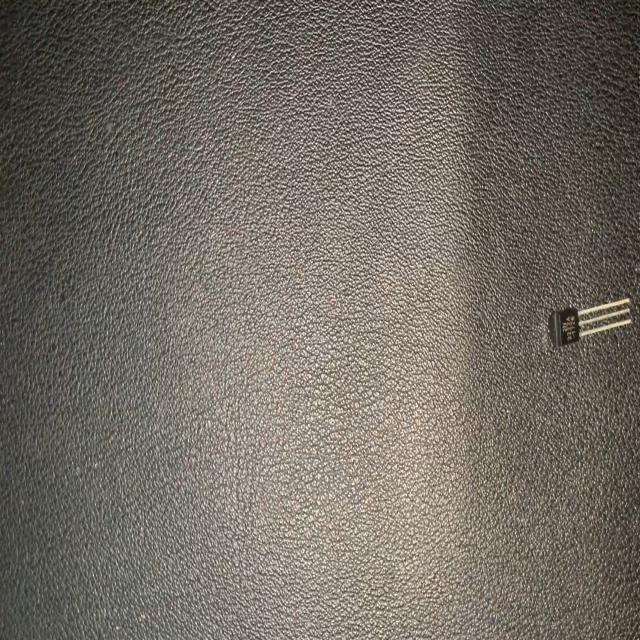BJT: (546, 296, 634, 351)
